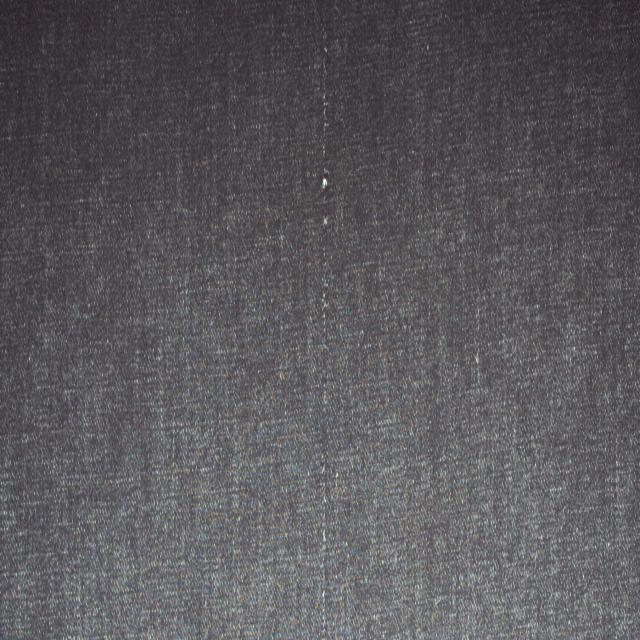pulled_or_thick_thread: (317, 4, 335, 640)
